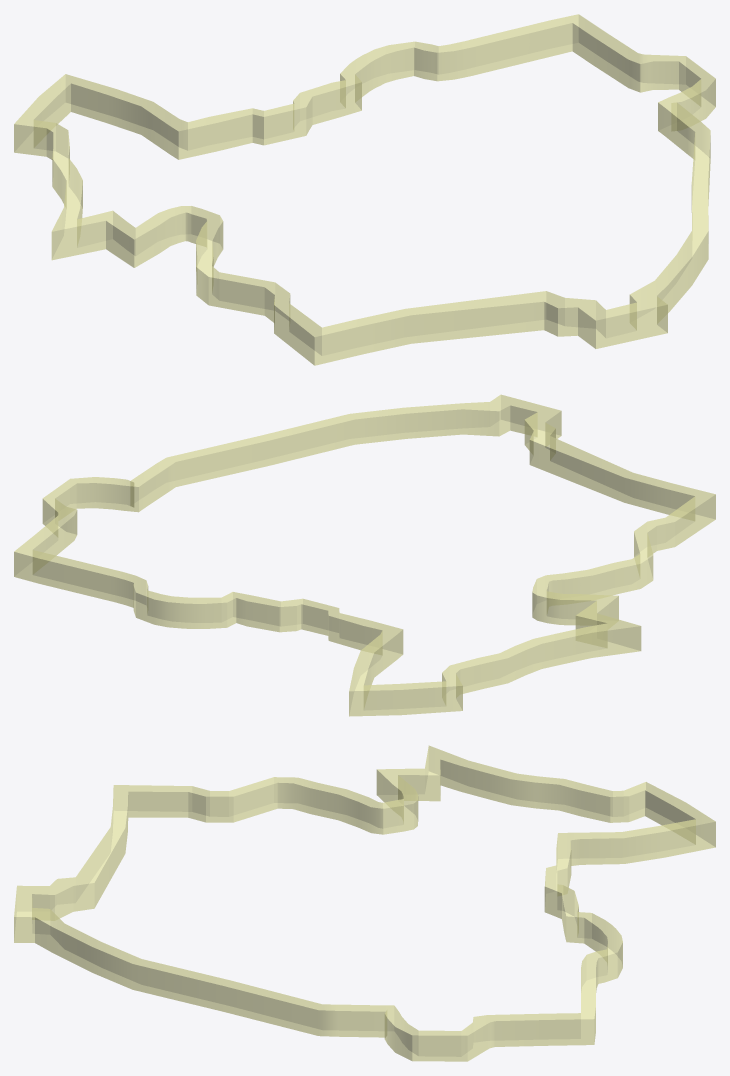
File: sunmun_col.fbx
3 views of the same model, one above another, from view 1: azimuth 30°, elevation 25°; view 2: azimuth 150°, elevation 25°; view 3: azimuth 270°, elevation 25° (orthographic). The views are drawn at different scales.
Visible parts, largest first — view 1: sunmun_land_col; view 2: sunmun_land_col; view 3: sunmun_land_col.
Boxes of the visible parts, bbox=[...] form: sunmun_land_col: bbox=[14, 14, 715, 365]; sunmun_land_col: bbox=[14, 394, 715, 716]; sunmun_land_col: bbox=[14, 745, 715, 1061].
Bounding box in the file's own units: 12.08 × 0.5019 × 12.34.
